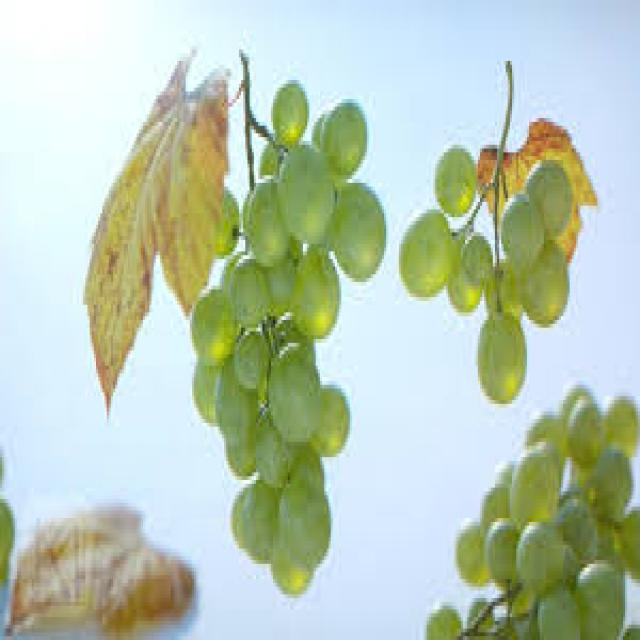organic waste: (188, 80, 384, 594), (424, 389, 638, 636), (85, 34, 224, 408), (396, 145, 570, 400), (6, 511, 192, 636), (480, 114, 595, 259), (262, 350, 318, 450), (273, 483, 326, 568), (280, 141, 328, 232), (337, 183, 382, 278), (292, 240, 337, 328), (478, 320, 525, 404), (233, 495, 292, 560), (245, 176, 292, 252), (576, 560, 623, 636), (524, 160, 570, 236), (525, 244, 565, 331), (401, 217, 448, 290), (433, 141, 478, 213), (284, 449, 322, 534), (218, 350, 252, 442), (510, 442, 550, 518), (226, 251, 269, 320), (275, 297, 314, 373), (192, 286, 235, 354), (252, 408, 290, 483), (326, 99, 361, 179), (501, 194, 540, 259), (529, 404, 568, 468), (521, 530, 561, 590), (192, 350, 224, 423), (224, 423, 267, 476), (454, 526, 497, 579), (311, 388, 348, 449), (486, 518, 520, 583), (568, 400, 600, 469), (482, 480, 514, 549), (269, 76, 305, 137), (576, 461, 608, 529), (533, 579, 574, 632), (236, 328, 266, 400), (484, 255, 521, 312), (600, 450, 632, 514), (604, 392, 634, 458), (269, 537, 307, 587), (580, 526, 623, 568), (555, 488, 591, 537), (452, 240, 478, 305), (266, 248, 296, 304), (616, 503, 638, 579), (0, 454, 11, 594), (465, 228, 489, 282), (499, 461, 523, 514), (424, 602, 458, 636), (555, 537, 576, 591), (467, 602, 499, 636), (260, 137, 282, 183), (565, 381, 591, 419), (512, 591, 533, 636), (623, 621, 638, 636)
